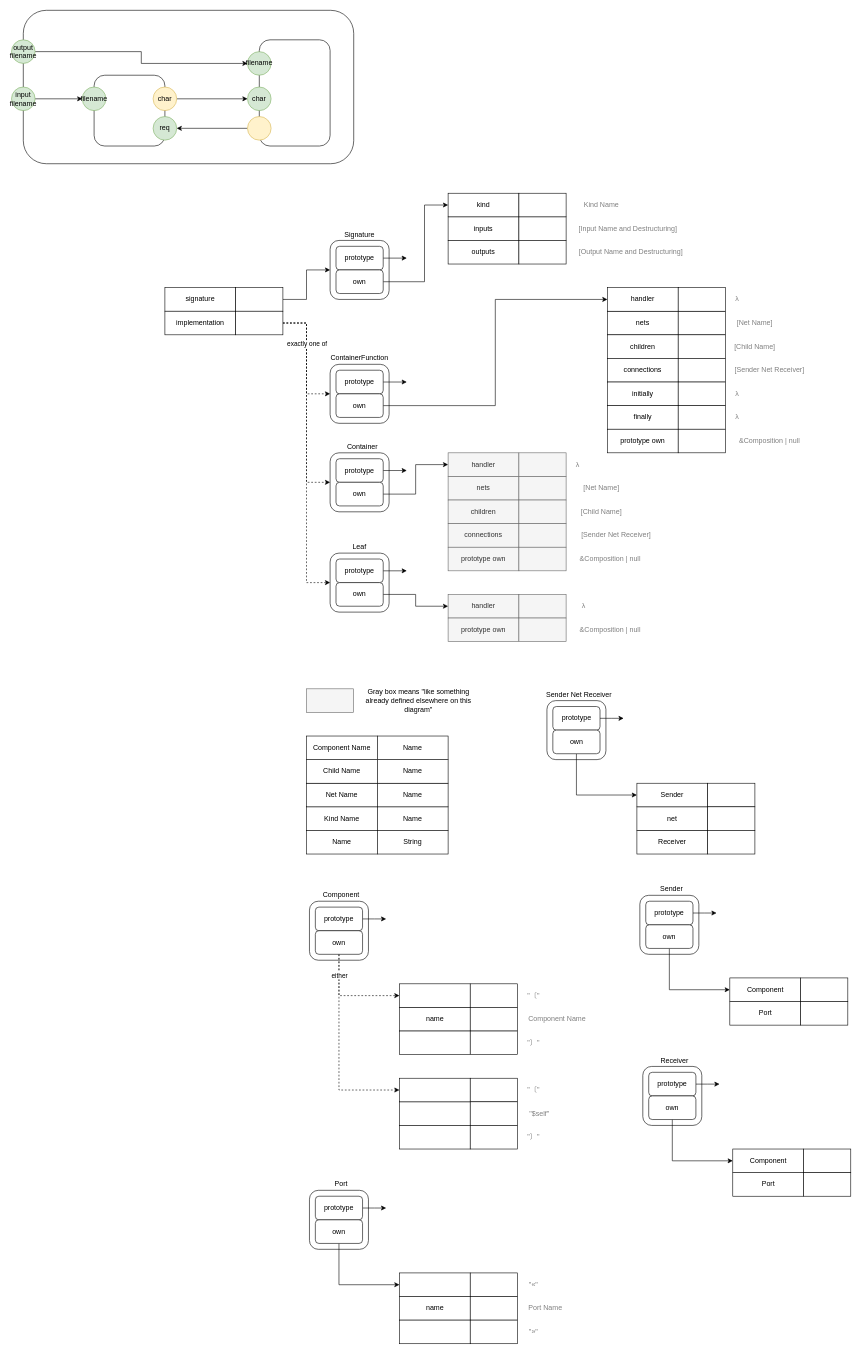
Some shapes in this 861 by 1354 pixel diagram are drawn without their labels. The shapes that lost their labels are listed below. From the top down, each one's box as (x1, y1, x2, y2) in pixels, then its label:
(23, 10, 354, 164): top
(259, 39, 330, 146): write
(94, 75, 165, 146): read
(247, 116, 271, 140): request
